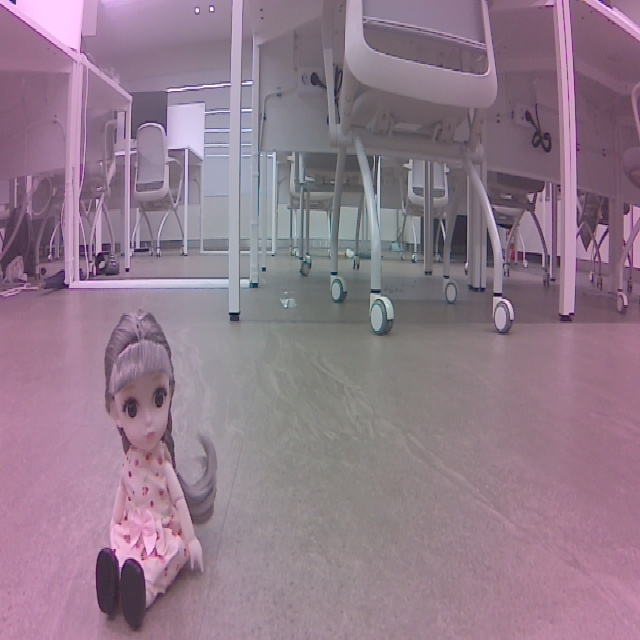장애물: (82, 302, 226, 626)
